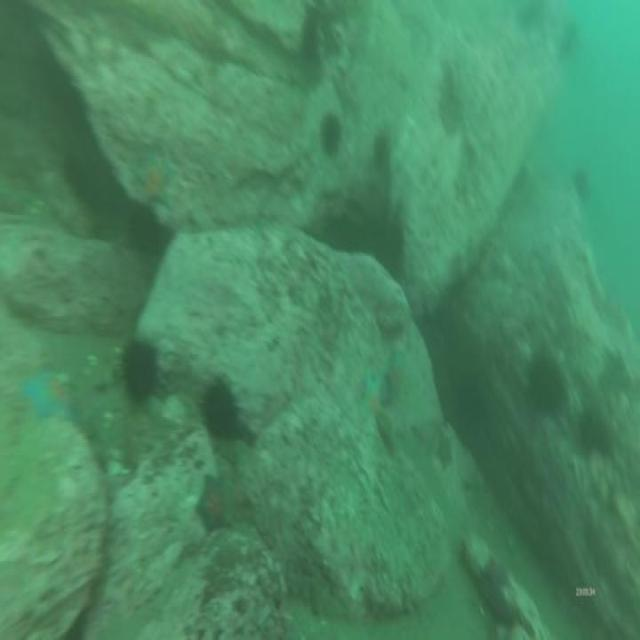echinus: (120, 328, 164, 408), (527, 335, 565, 419), (198, 370, 240, 442), (580, 400, 614, 455), (316, 104, 348, 158), (368, 125, 396, 177)
starfish: (13, 360, 71, 425), (137, 147, 175, 212), (599, 340, 636, 404), (197, 471, 230, 534), (481, 544, 512, 604), (362, 370, 381, 422), (437, 425, 455, 468)
